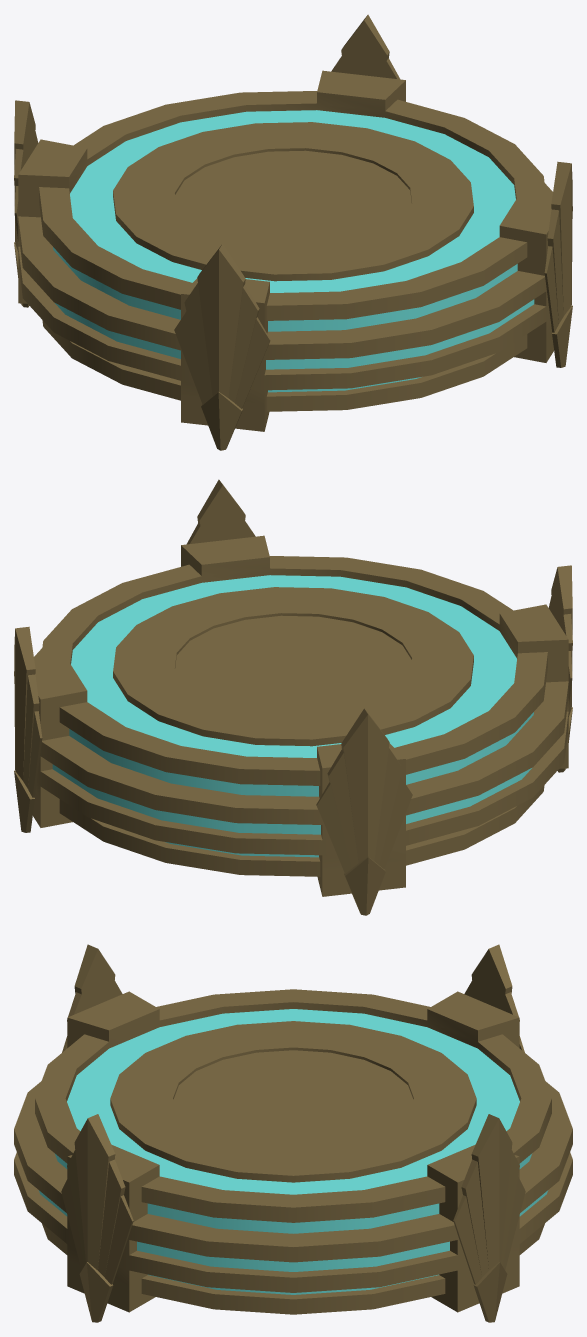
Rendered from SM_DeliveryPlatform.fbx.
3 views of the same model, one above another, from view 1: azimuth 30°, elevation 25°; view 2: azimuth 150°, elevation 25°; view 3: azimuth 270°, elevation 25° (orthographic).
Visible parts, largest first — view 1: SM_DeliveryPlatform; view 2: SM_DeliveryPlatform; view 3: SM_DeliveryPlatform.
Boxes of the visible parts, bbox=[...] form: SM_DeliveryPlatform: bbox=[14, 14, 572, 450]; SM_DeliveryPlatform: bbox=[14, 479, 572, 915]; SM_DeliveryPlatform: bbox=[14, 944, 572, 1322].
Size of the model in its own units: 379 by 154 by 379.
